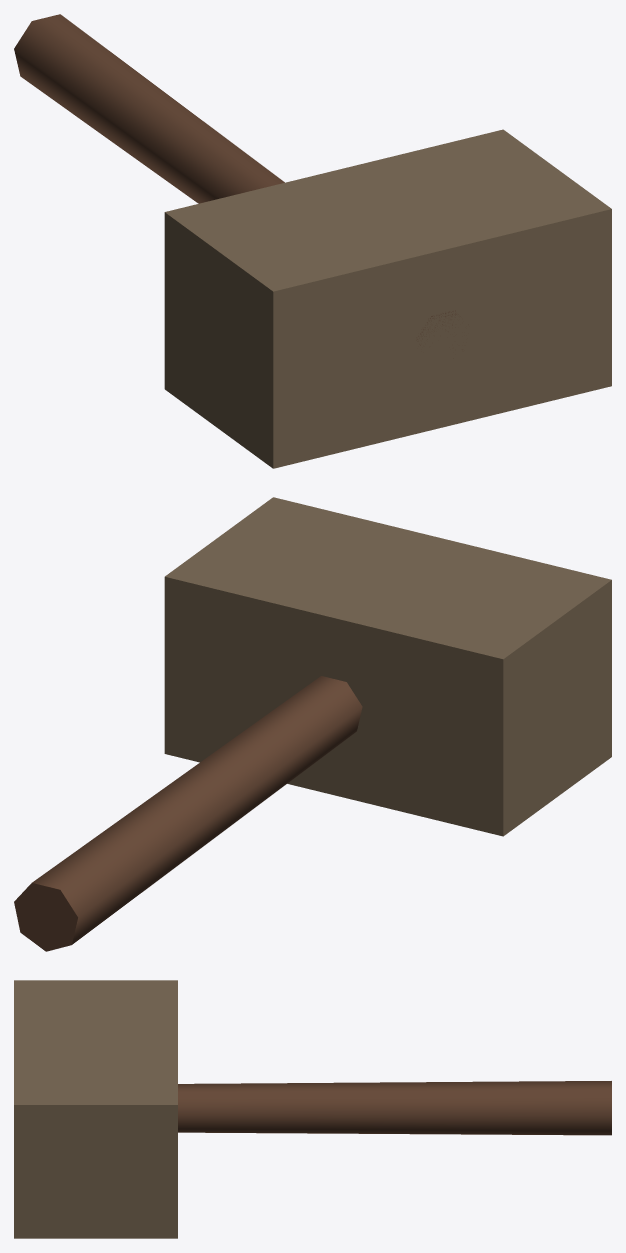
File: Tool_Hammer.glb
The picture shows the model from 3 angles, top to bottom: view 1: azimuth 30°, elevation 25°; view 2: azimuth 150°, elevation 25°; view 3: azimuth 270°, elevation 25°; orthographic projection. The views are drawn at different scales.
Visible parts, largest first — view 1: _MeshInstance3D_4575, _MeshInstance3D_4574; view 2: _MeshInstance3D_4575, _MeshInstance3D_4574; view 3: _MeshInstance3D_4575, _MeshInstance3D_4574.
Part boxes in pixels (x1=…): _MeshInstance3D_4575: x1=164, y1=129, x2=611, y2=468; _MeshInstance3D_4574: x1=14, y1=14, x2=468, y2=358; _MeshInstance3D_4575: x1=164, y1=497, x2=611, y2=836; _MeshInstance3D_4574: x1=14, y1=676, x2=362, y2=951; _MeshInstance3D_4575: x1=14, y1=980, x2=177, y2=1238; _MeshInstance3D_4574: x1=178, y1=1081, x2=611, y2=1135.
Size of the model in its own units: 0.36 by 0.18 by 0.73.
